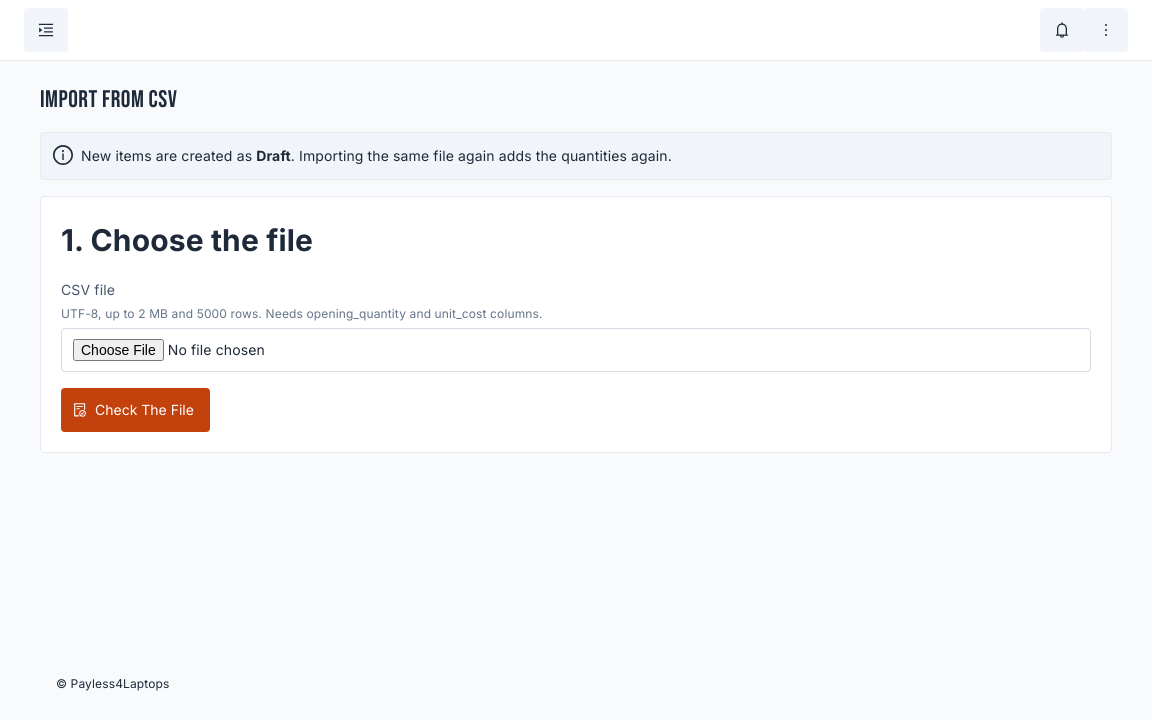
Scenario: FIX-42: import file input is cleared when the confirm is cancelled › the input is empty after Cancel, and choosing the same file again sends a dry run
The width and height of the screenshot is (1152, 720).
Earlier steps of the test are not shown.
Later steps or results of the test are not shown.
expect the heading "Import from CSV" is shown: met, box x1=40 y1=85 x2=177 y2=114
Click the button "Check the file".
click(135, 410)  # box x1=61 y1=388 x2=210 y2=432
(page scrolled)
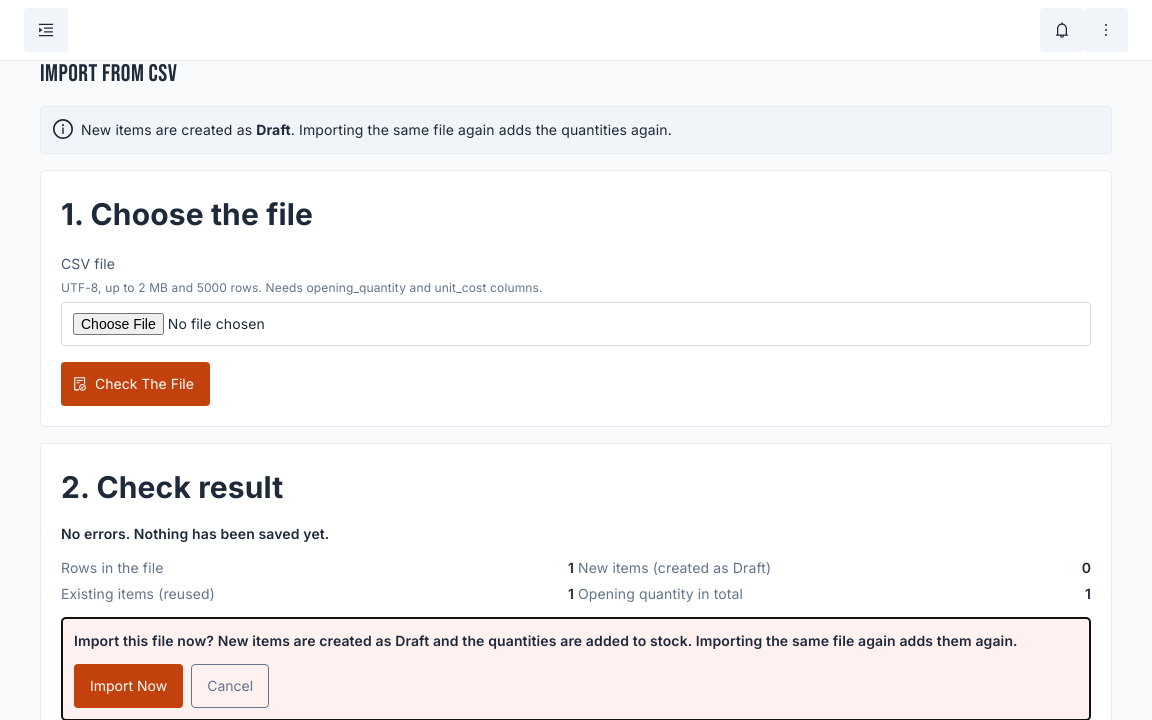
expect the button "Import now" is shown: met, box x1=74 y1=664 x2=183 y2=708
Click the button "Cancel".
click(230, 686)  # box x1=191 y1=664 x2=269 y2=708
(page scrolled)
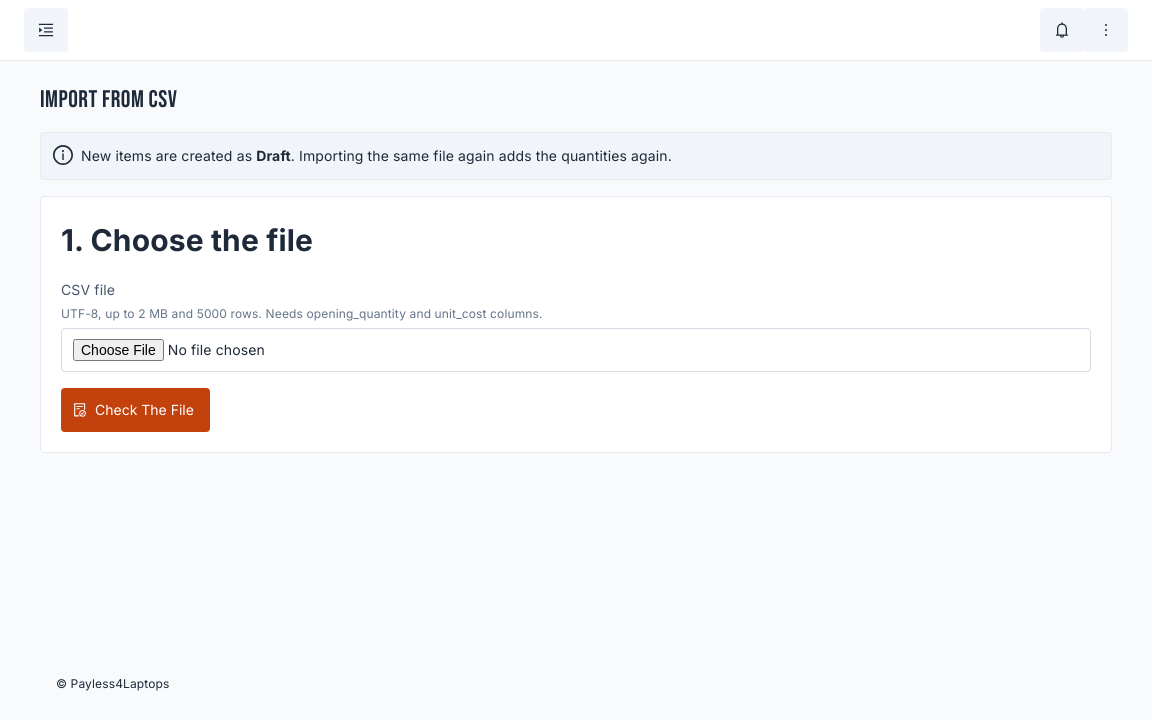
expect the button "Import now" is gone: met
